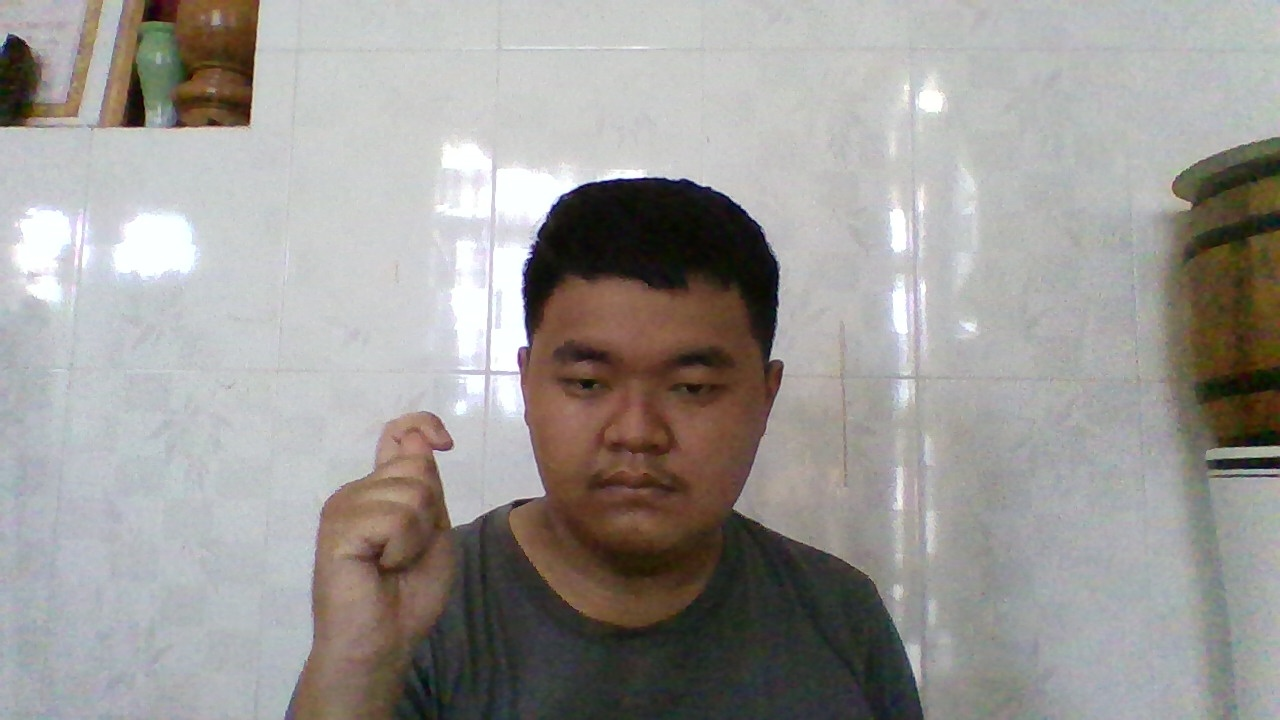X: (323, 401, 461, 676)
